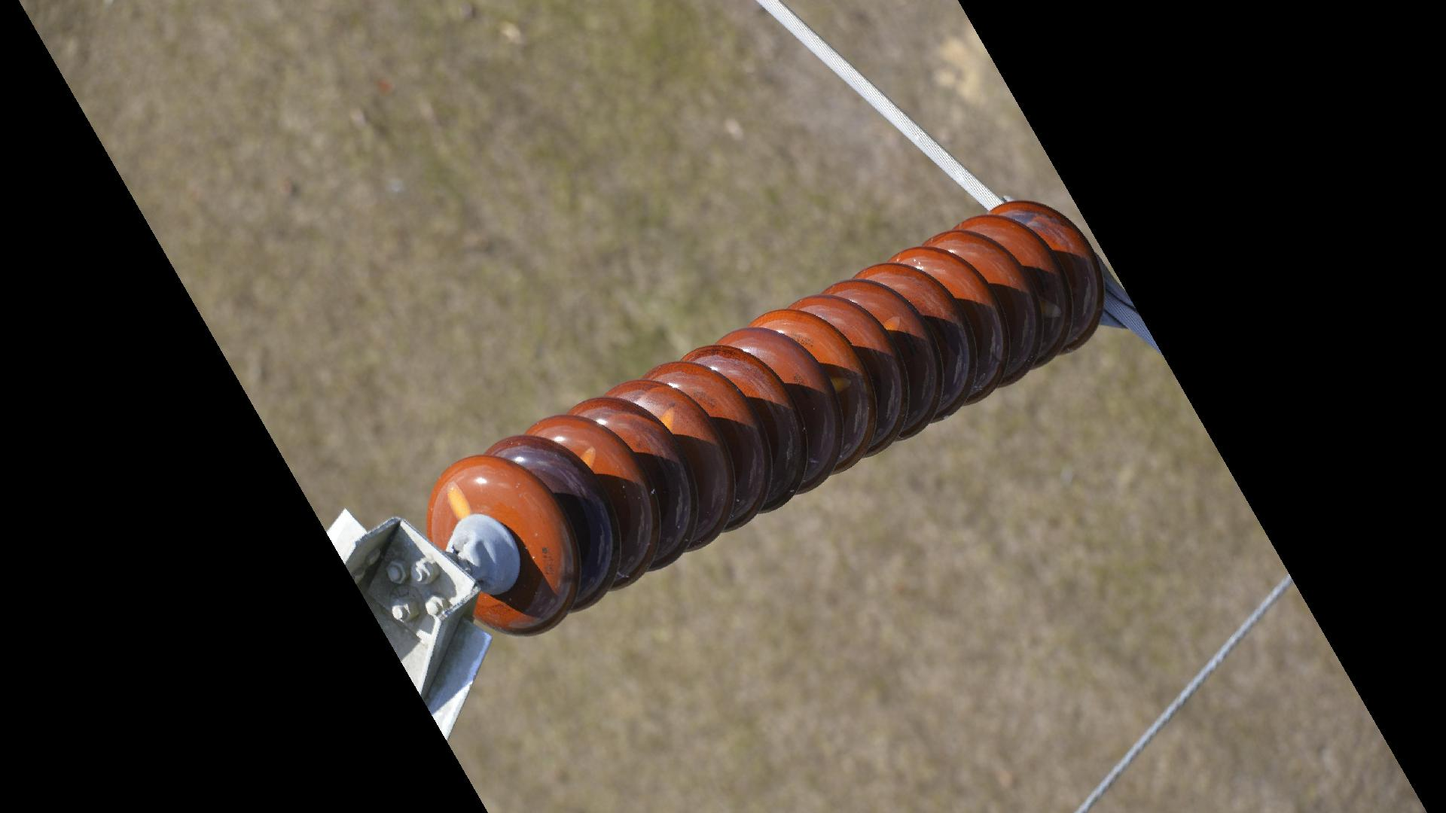insulator: (422, 194, 1109, 642)
insulator_flashover: (444, 477, 474, 523)
